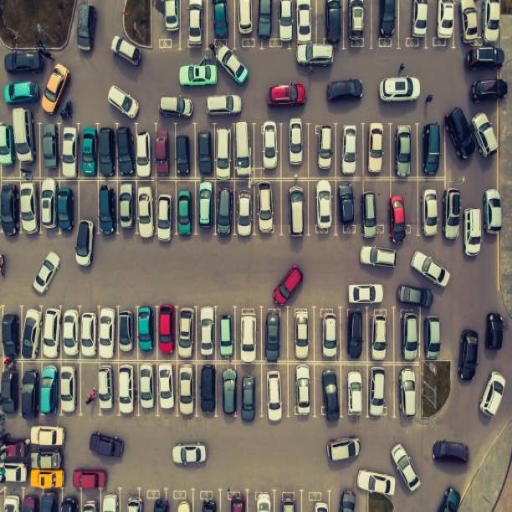Illegal-parking: (442, 91, 480, 184), (4, 102, 41, 182), (357, 185, 384, 247), (388, 182, 412, 248), (466, 78, 512, 108), (465, 44, 510, 74), (78, 364, 98, 418)
Slot-empty: (78, 189, 96, 228)
Slot-occupied: (256, 184, 281, 242), (154, 181, 176, 245), (285, 182, 309, 236), (18, 186, 41, 240), (177, 180, 196, 242), (237, 184, 257, 242), (40, 182, 59, 234), (137, 186, 156, 236), (218, 185, 234, 244), (118, 182, 135, 234), (201, 182, 216, 240), (60, 184, 76, 238)
